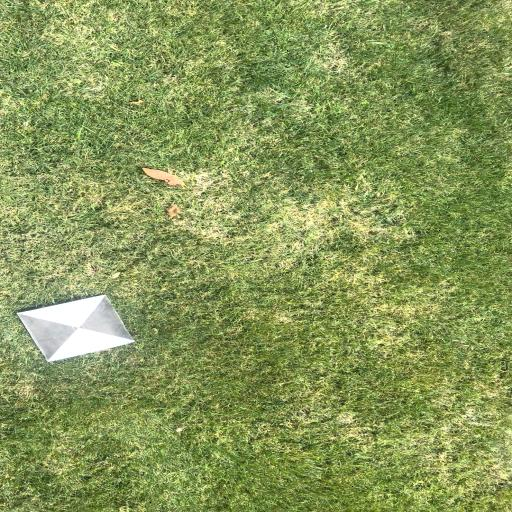target: (17, 295, 134, 362)
